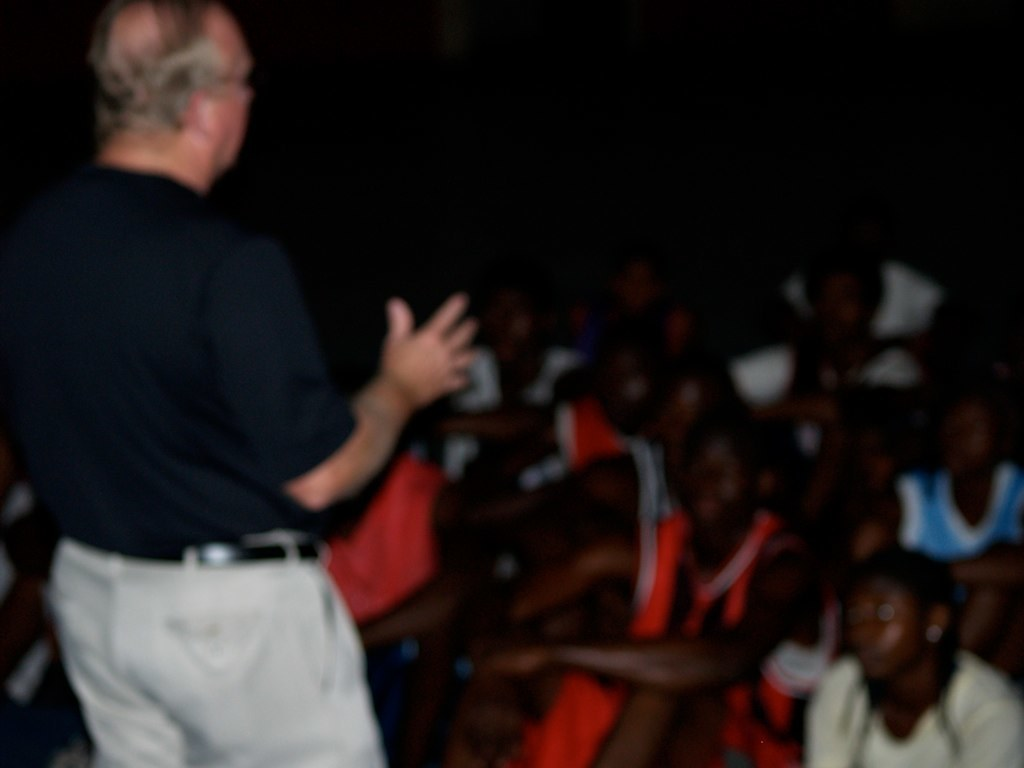Human-face: (849, 577, 929, 678), (213, 17, 254, 165)
